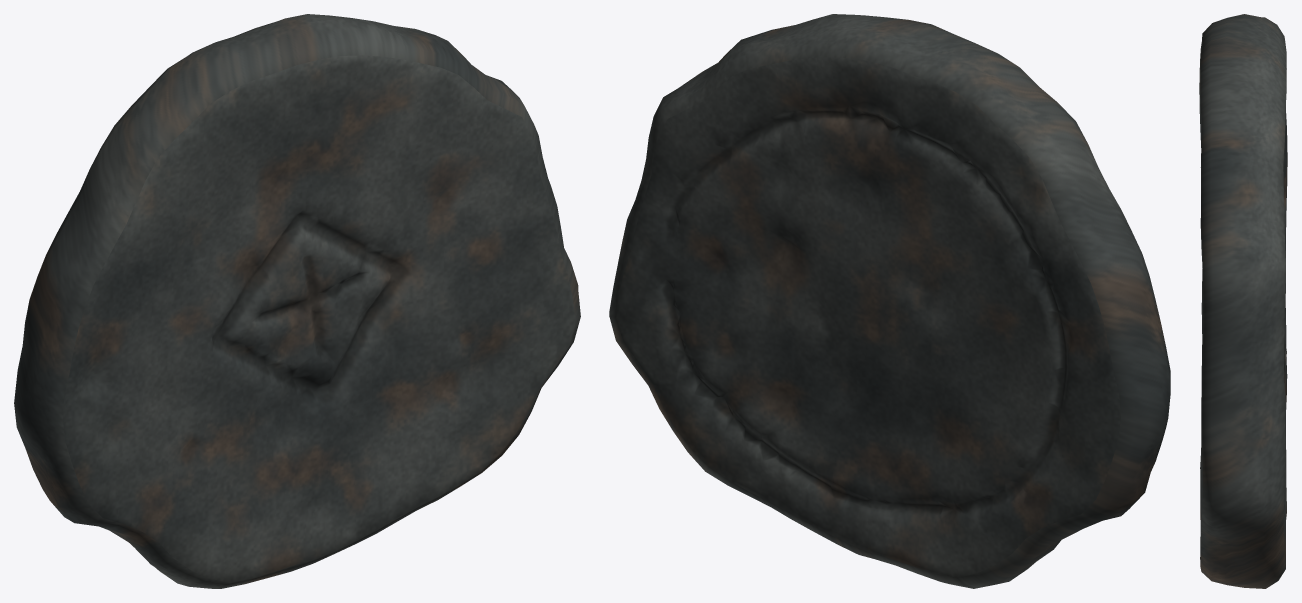
The model's file is coin_demon_iron.glb.
The picture shows the model from 3 angles, left to right: view 1: azimuth 30°, elevation 25°; view 2: azimuth 150°, elevation 25°; view 3: azimuth 270°, elevation 25°; orthographic projection. The views are drawn at different scales.
Parts seen in each view (by area): view 1: Forged iron; view 2: Forged iron; view 3: Forged iron.
Boxes of the visible parts, bbox=[...] form: Forged iron: bbox=[14, 14, 580, 588]; Forged iron: bbox=[609, 14, 1170, 588]; Forged iron: bbox=[1199, 14, 1287, 588].
Bounding box in the file's own units: 0.8781 × 0.82 × 0.1284.
1 material, 1 textured.
